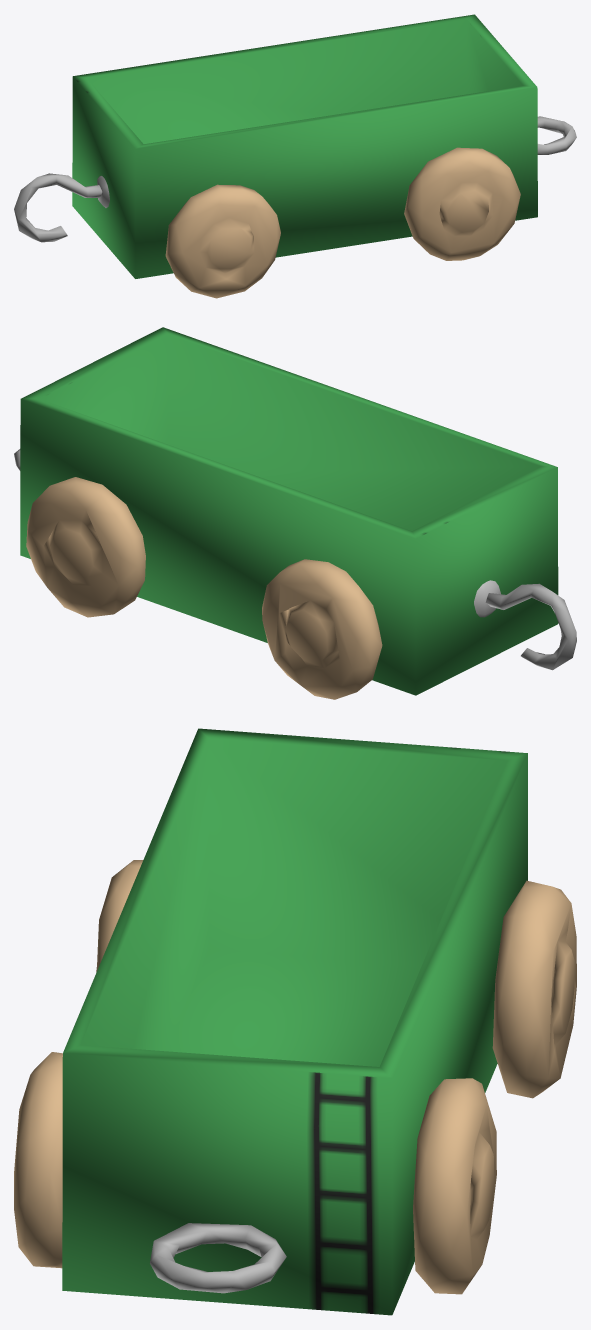
File: verde.fbx
The picture shows the model from 3 angles, top to bottom: view 1: azimuth 30°, elevation 25°; view 2: azimuth 150°, elevation 25°; view 3: azimuth 270°, elevation 25°; orthographic projection. The views are drawn at different scales.
Parts seen in each view (by area): view 1: vagone2; view 2: vagone2; view 3: vagone2.
Boxes of the visible parts, x1,y1,x2,y2 form: vagone2: [14, 14, 576, 298]; vagone2: [14, 327, 576, 699]; vagone2: [14, 728, 576, 1315].
Size of the model in its own units: 636 by 181 by 334.
Materials: 3 (1 with a texture image).
